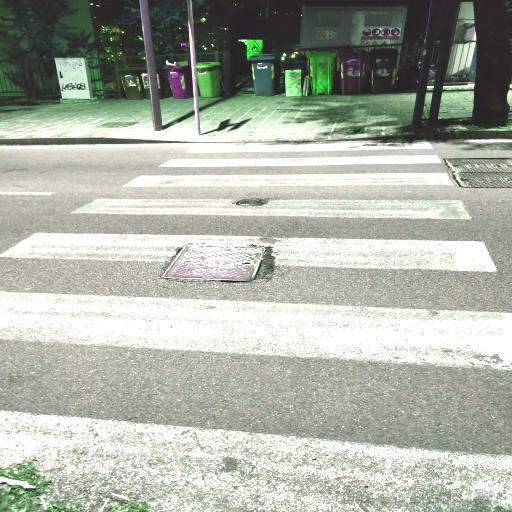crosswalk: (1, 194, 503, 281), (154, 134, 444, 170)
